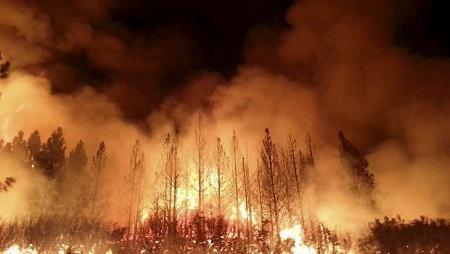fire: (128, 170, 325, 252)
